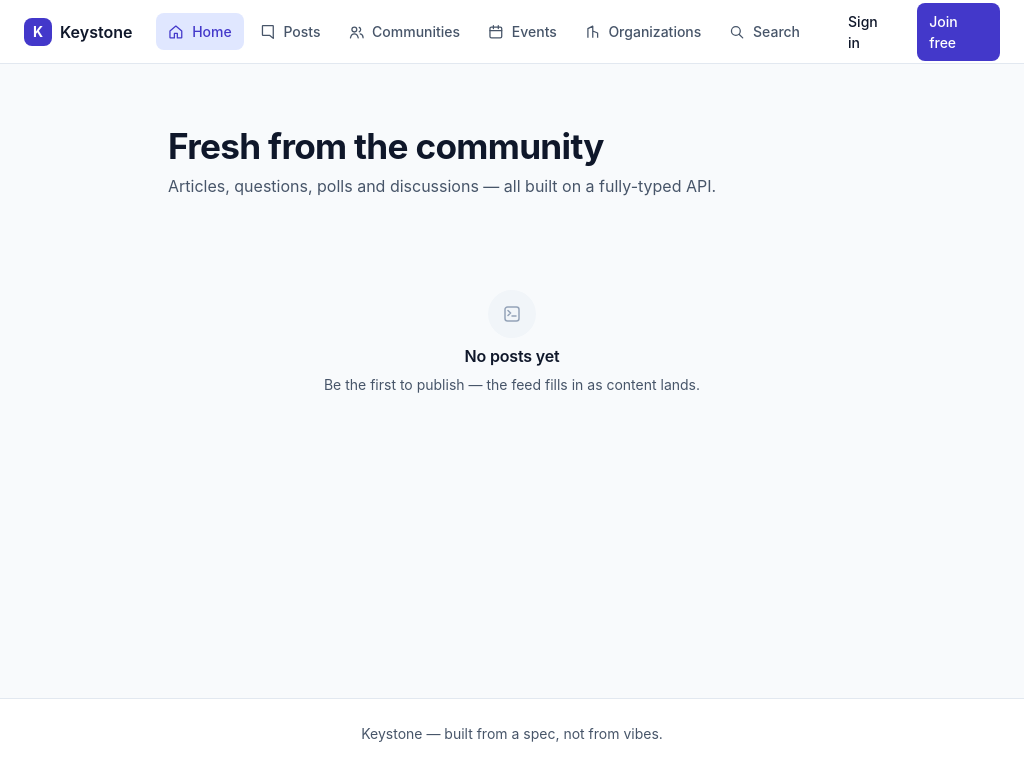
Scenario: routing shells › navigates between routes via nav links
Check: the heading "Fresh from the community" is shown, box [168,125,604,167]
Click the link "Events".
click(522, 32)  # box [488,23,557,40]
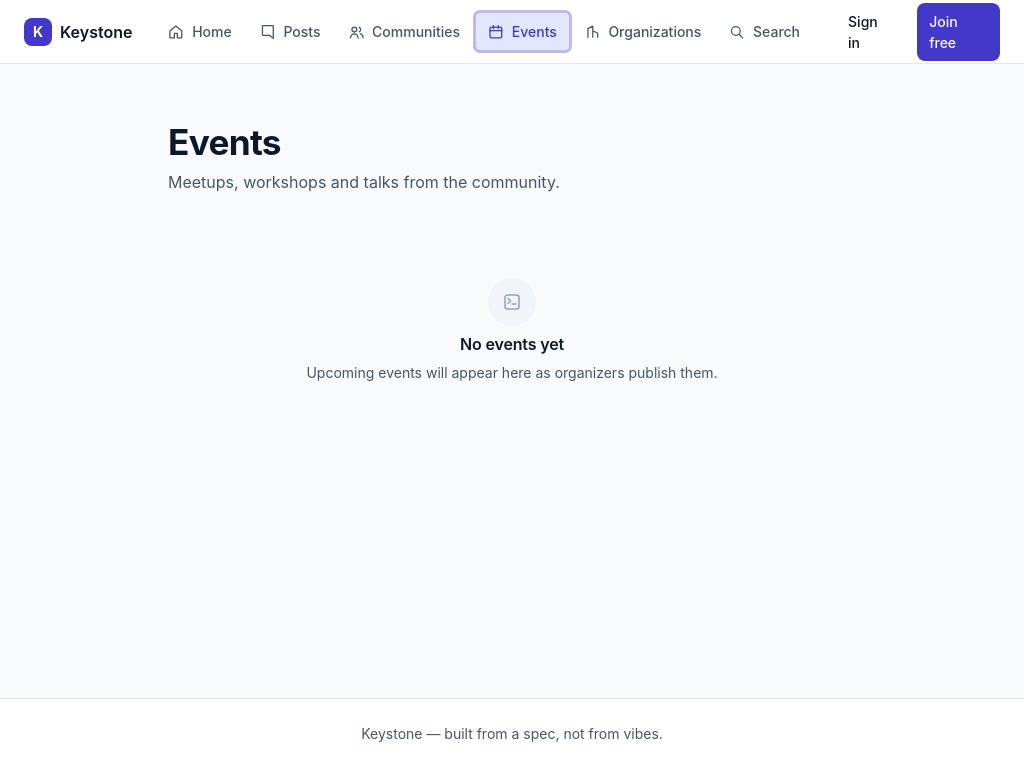
Check: the heading "Events" is shown, box [168,121,281,163]
